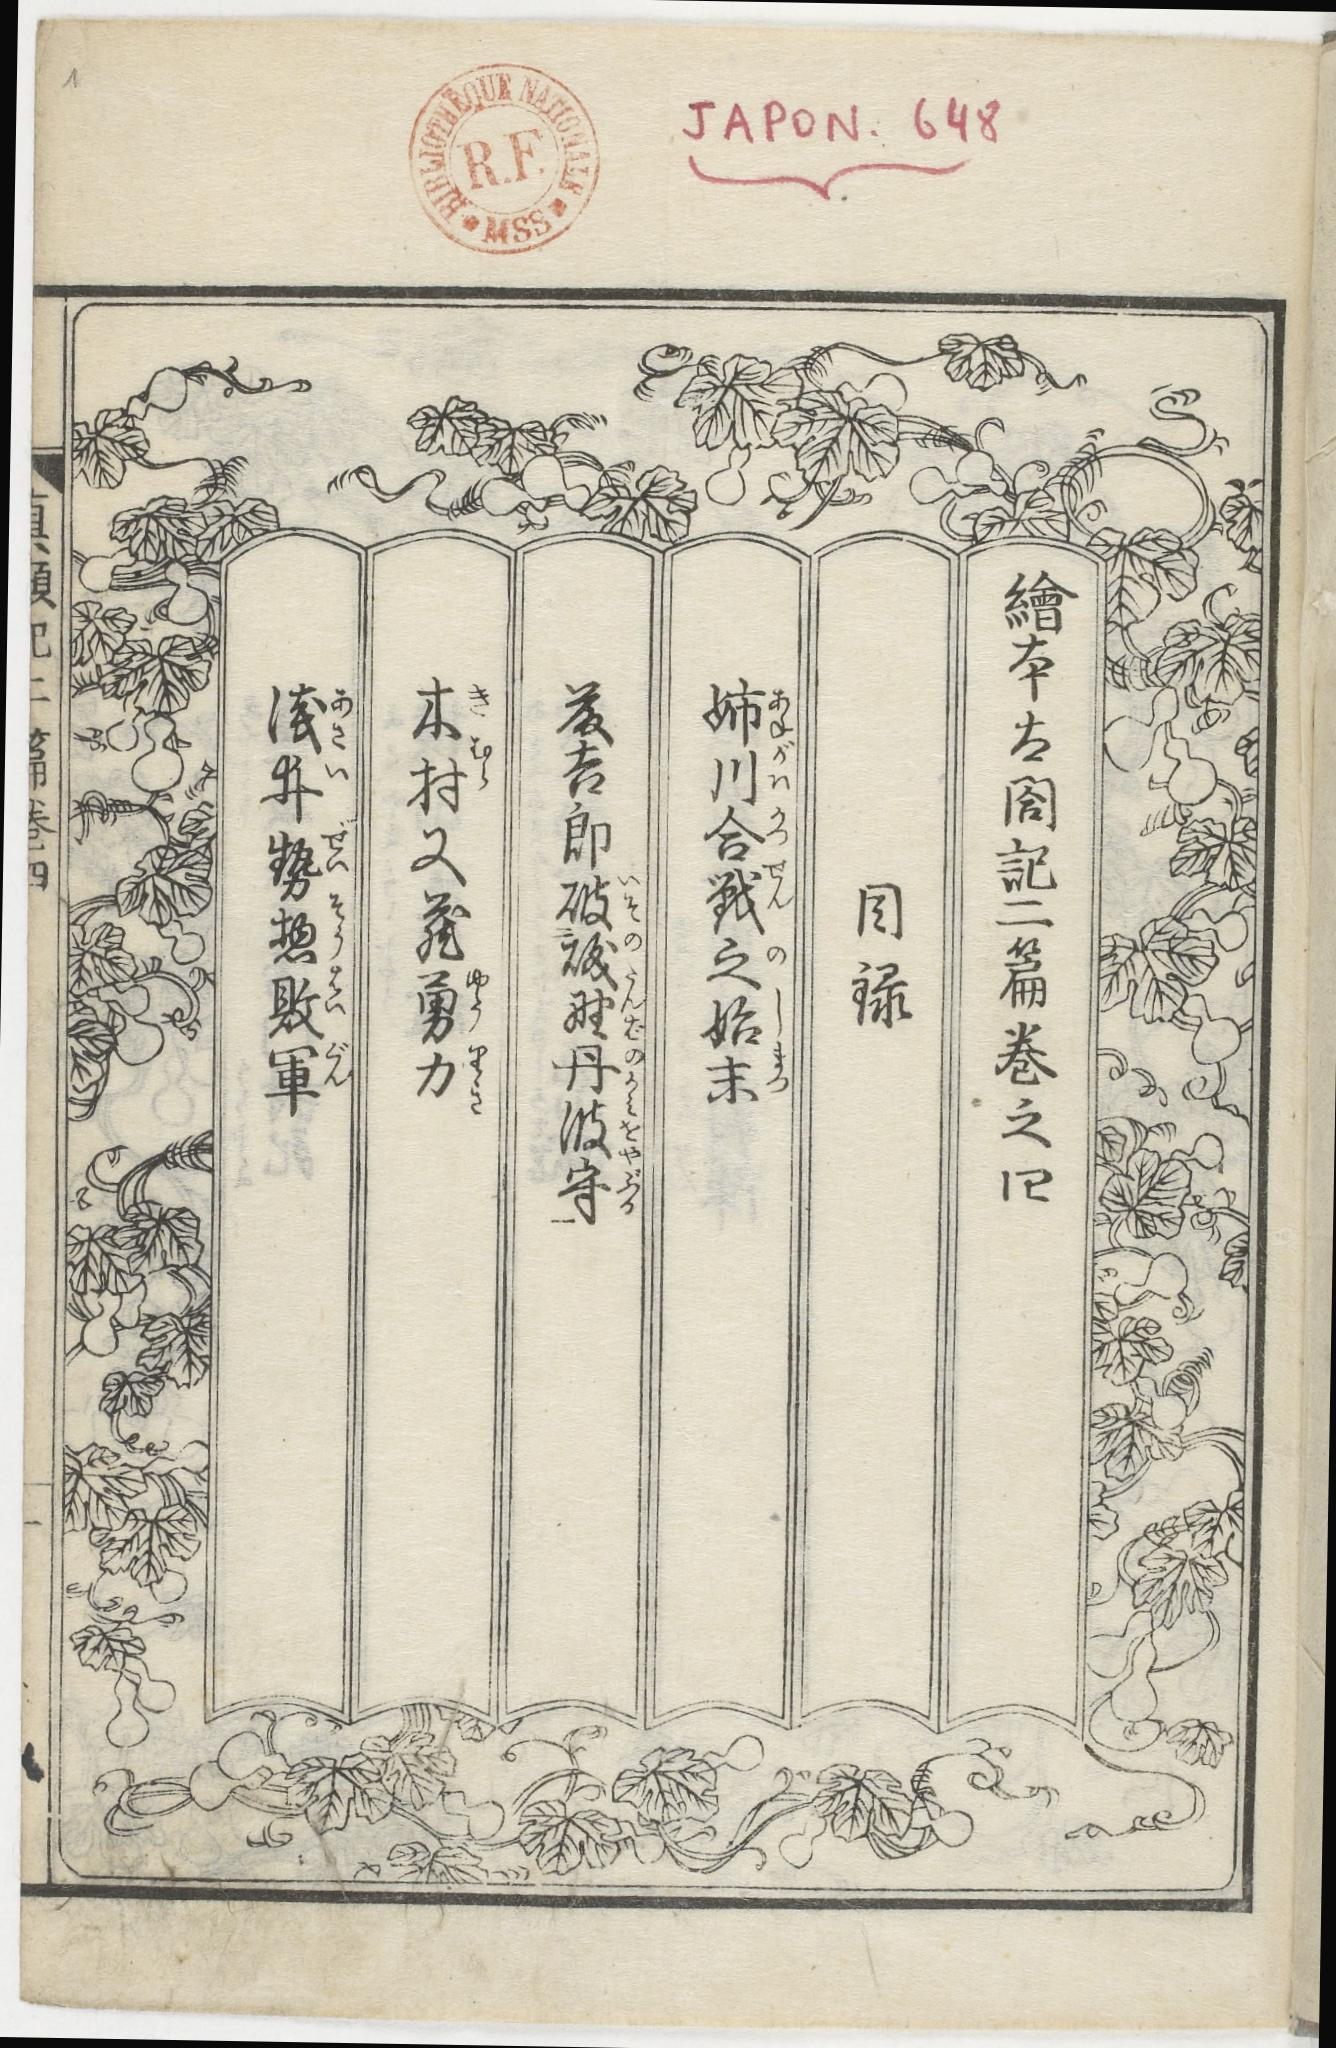MainZone-Character: (399, 1039, 496, 1126), (254, 1030, 354, 1106), (408, 736, 499, 819), (703, 857, 797, 937), (260, 819, 351, 899), (255, 678, 355, 749), (546, 1093, 646, 1163), (705, 737, 800, 806), (403, 967, 494, 1039), (551, 922, 651, 987), (258, 894, 349, 964), (261, 964, 352, 1034), (258, 752, 349, 819), (697, 679, 794, 742), (552, 1157, 649, 1220), (697, 805, 800, 863), (703, 1042, 790, 1111), (696, 984, 791, 1045), (549, 1039, 648, 1096), (554, 870, 646, 928), (405, 676, 488, 734), (699, 936, 790, 987), (560, 990, 643, 1042)
MainZone-Ruby: (313, 815, 358, 878), (466, 728, 505, 797), (319, 1036, 357, 1094), (461, 1042, 488, 1117), (615, 1096, 645, 1158), (761, 858, 794, 912), (619, 930, 651, 985), (325, 685, 352, 749), (769, 682, 797, 737), (769, 740, 799, 793), (617, 991, 648, 1040), (764, 800, 796, 849), (617, 867, 643, 924), (327, 891, 346, 966), (324, 966, 349, 1020), (618, 1166, 646, 1214), (467, 969, 488, 1031), (767, 1045, 791, 1097), (622, 1046, 649, 1093), (464, 679, 493, 722), (769, 990, 790, 1039), (761, 942, 791, 976), (321, 758, 349, 782)
